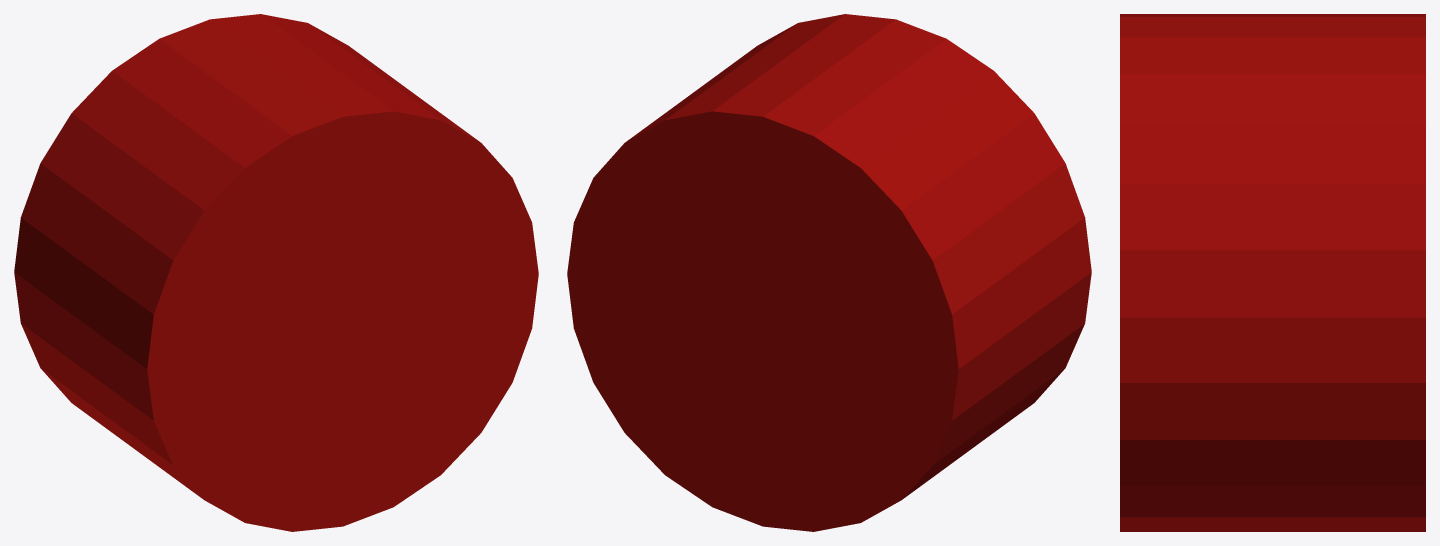
File: Part_StopPivot.obj
3 renders of one model, left to right at view 1: azimuth 30°, elevation 25°; view 2: azimuth 150°, elevation 25°; view 3: azimuth 270°, elevation 25°, orthographic. The views are drawn at different scales.
Parts seen in each view (by area): view 1: StopButton; view 2: StopButton; view 3: StopButton.
Boxes of the visible parts, left/top/right/bottom form: StopButton: left=14, top=14, right=538, bottom=531; StopButton: left=567, top=14, right=1091, bottom=531; StopButton: left=1120, top=14, right=1425, bottom=531.
Bounding box in the file's own units: 0.085 × 0.085 × 0.05.
